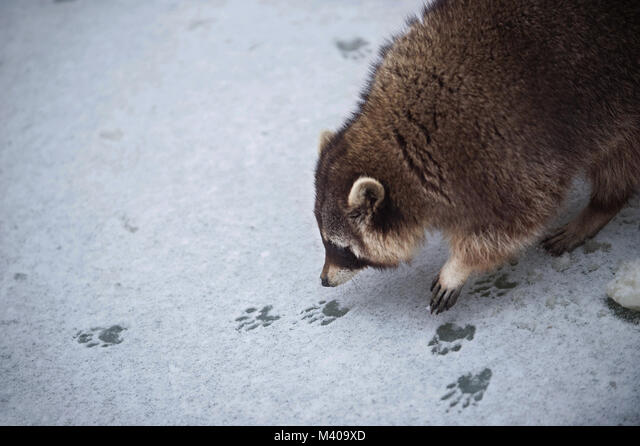raccoon: (66, 313, 133, 357), (300, 292, 357, 335), (223, 303, 285, 337)
